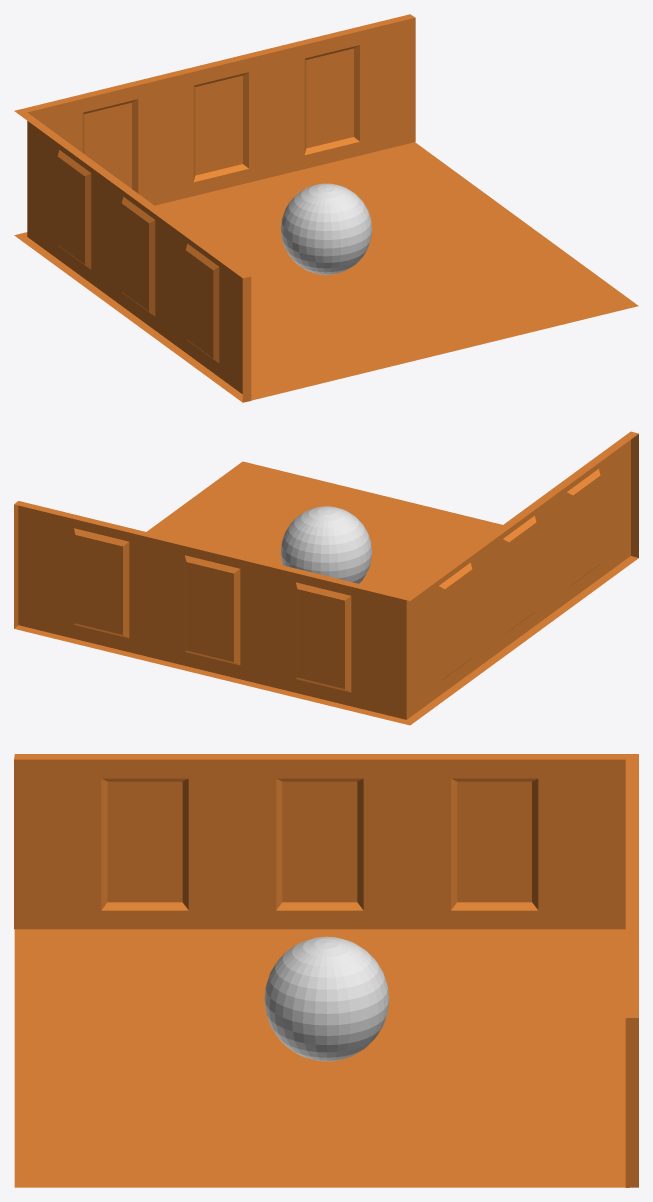
File: banner.glb
3 views of the same model, one above another, from view 1: azimuth 30°, elevation 25°; view 2: azimuth 150°, elevation 25°; view 3: azimuth 270°, elevation 25° (orthographic). The views are drawn at different scales.
Visible parts, largest first — view 1: Plane, Sphere; view 2: Plane, Sphere; view 3: Plane, Sphere.
Part boxes in pixels (left/top/right/bottom): Plane: left=14, top=14, right=638, bottom=402; Sphere: left=281, top=183, right=371, bottom=274; Plane: left=14, top=431, right=638, bottom=725; Sphere: left=281, top=506, right=371, bottom=583; Plane: left=14, top=754, right=638, bottom=1187; Sphere: left=264, top=936, right=389, bottom=1061.
Bounding box in the file's own units: 10.01 × 3 × 10.01.
